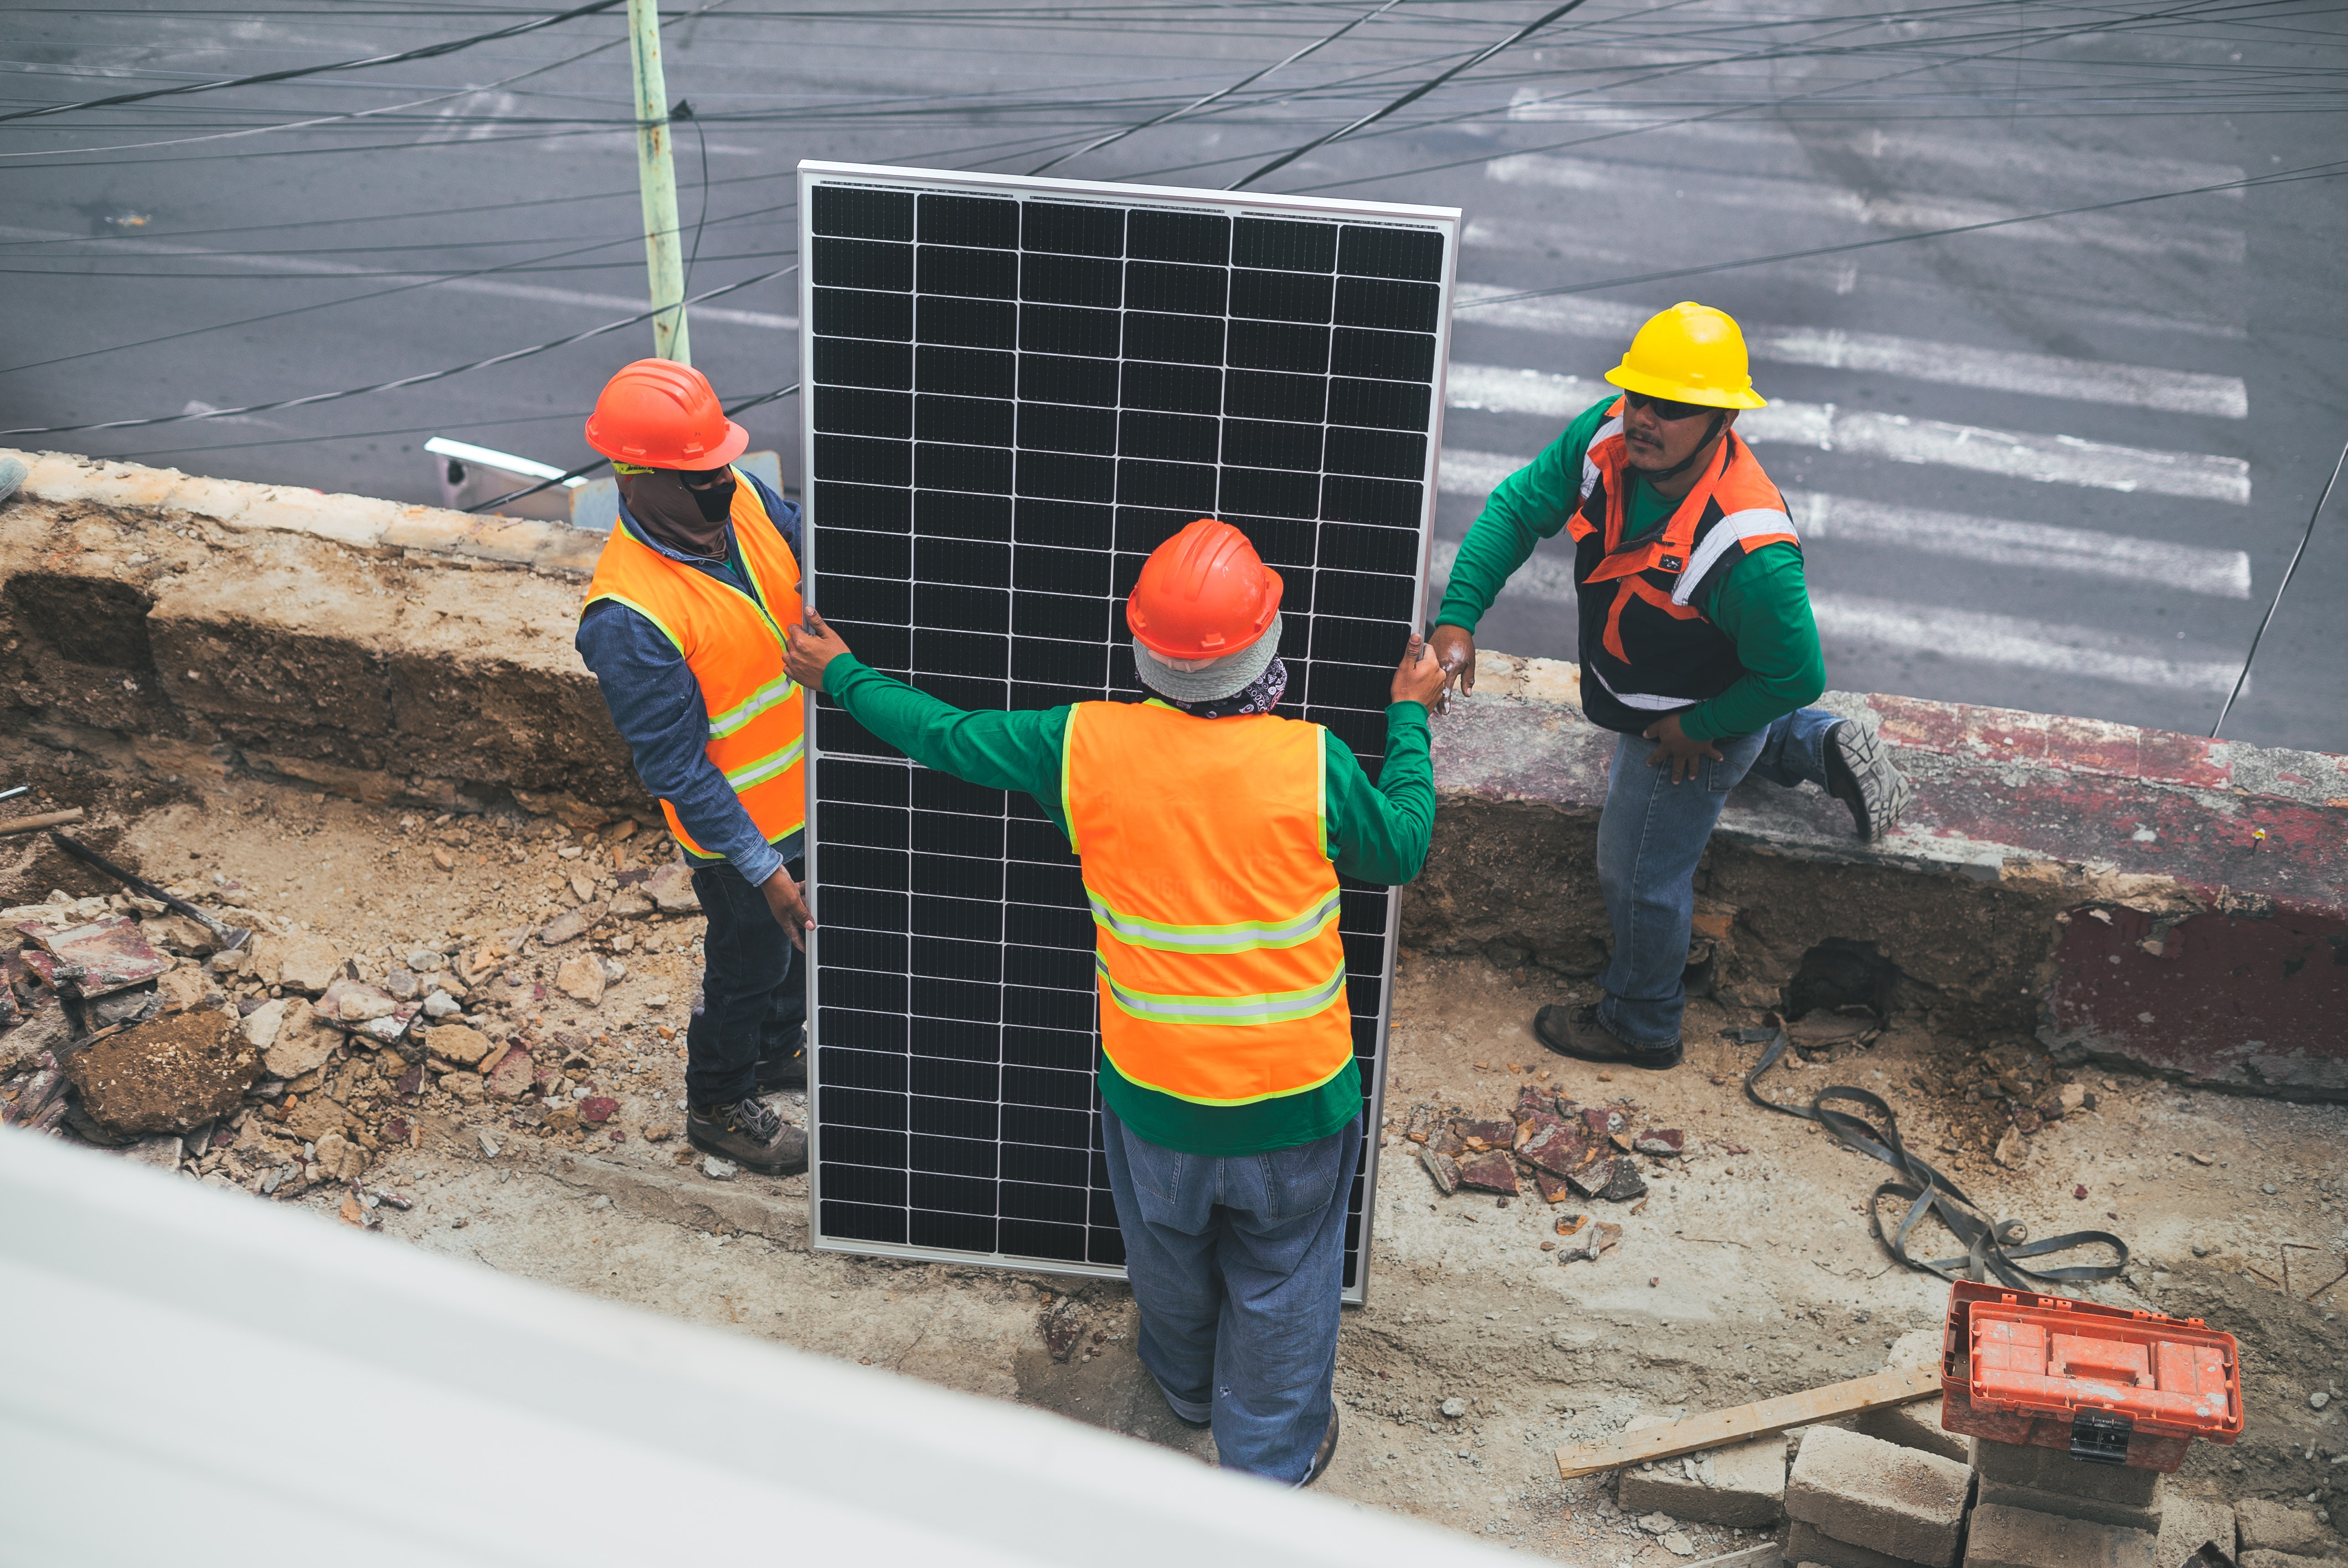Helmet: (577, 350, 756, 567), (1589, 290, 1771, 488), (1120, 513, 1302, 670)
Reflective vest: (1059, 686, 1370, 1106), (574, 464, 807, 892), (1538, 387, 1806, 745)
